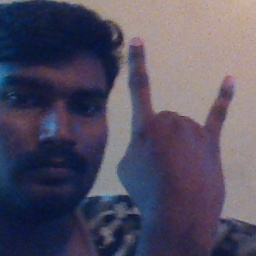V: (114, 29, 240, 235)
